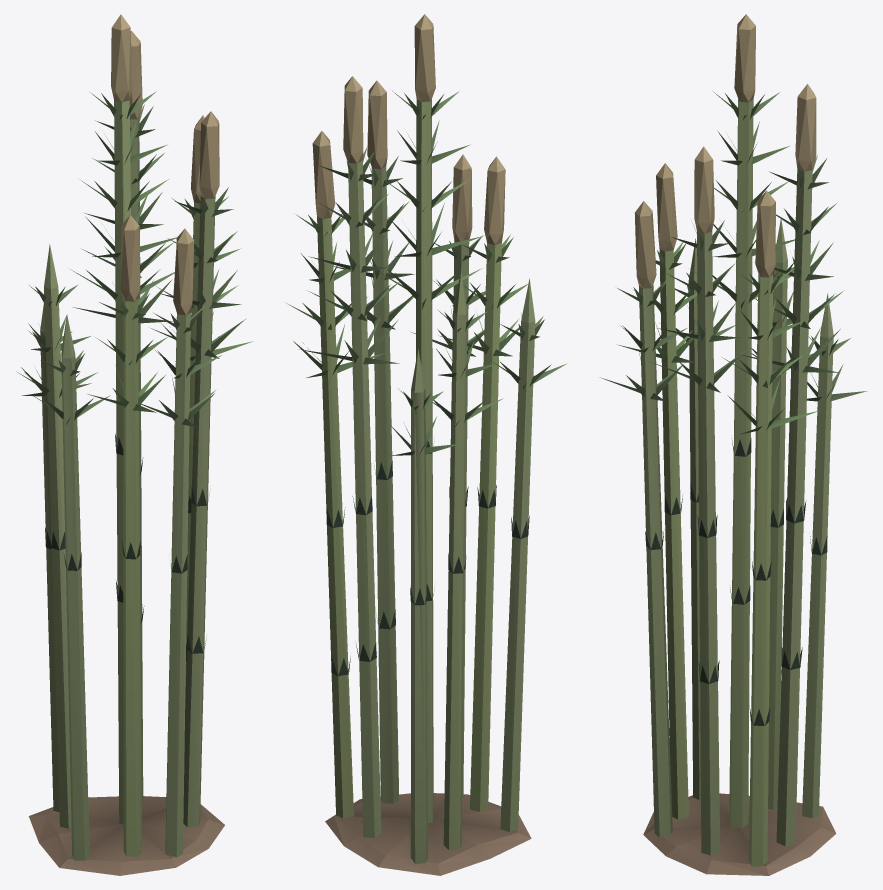
File: horsetail.glb
3 renders of one model, left to right at view 1: azimuth 30°, elevation 25°; view 2: azimuth 150°, elevation 25°; view 3: azimuth 270°, elevation 25°, orthographic.
Parts seen in each view (by area): view 1: horsetail; view 2: horsetail; view 3: horsetail.
Part boxes in pixels (<box>): horsetail: <box>16,14,252,875</box>; horsetail: <box>286,14,566,875</box>; horsetail: <box>600,14,867,875</box>.
Size of the model in its own units: 1.5 by 5 by 1.5.
